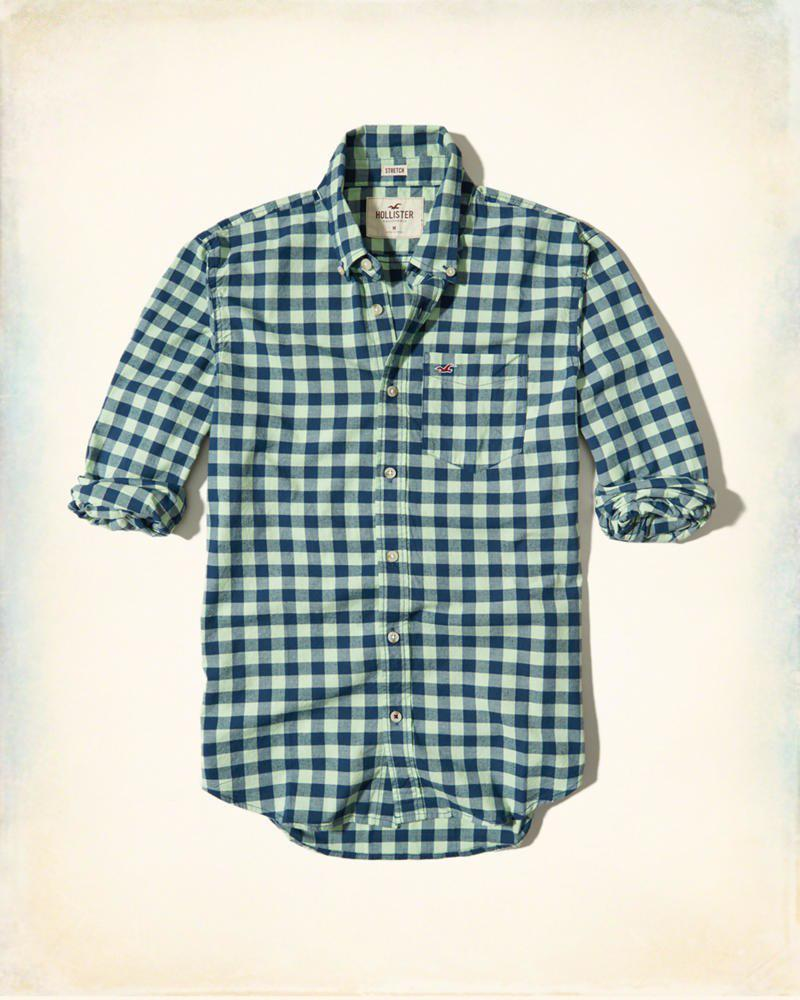teeshirt: (65, 109, 736, 889)
